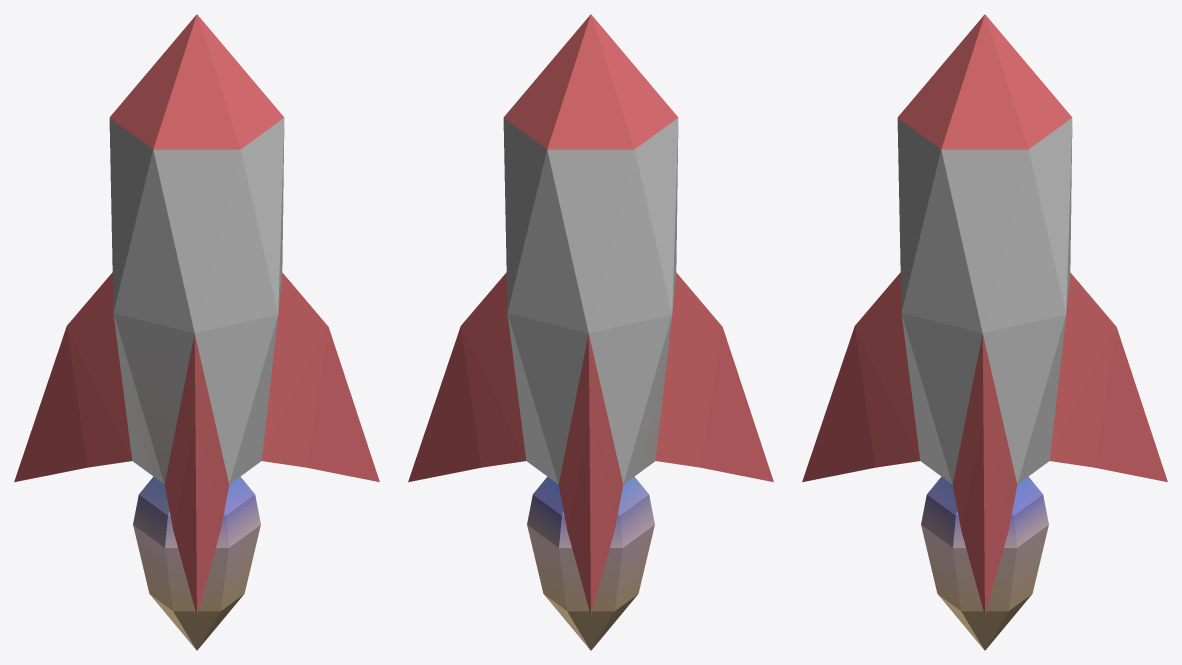
Rendered from low-poly-rocket.glb.
3 renders of one model, left to right at view 1: azimuth 30°, elevation 25°; view 2: azimuth 150°, elevation 25°; view 3: azimuth 270°, elevation 25°, orthographic.
Visible parts, largest first — view 1: Cylinder; view 2: Cylinder; view 3: Cylinder.
Part boxes in pixels (x1,y1,x2,y2): Cylinder: (14,14,379,650); Cylinder: (408,14,773,650); Cylinder: (802,14,1167,650).
Bounding box in the file's own units: 0.0687 × 0.1525 × 0.0794.
